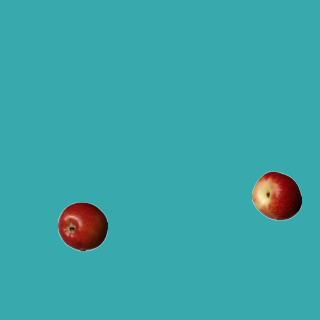Apple Braeburn: (57, 201, 107, 251)
Nectarine: (251, 170, 301, 220)
